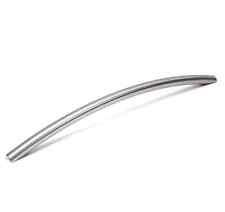handle: (9, 38, 218, 155)
